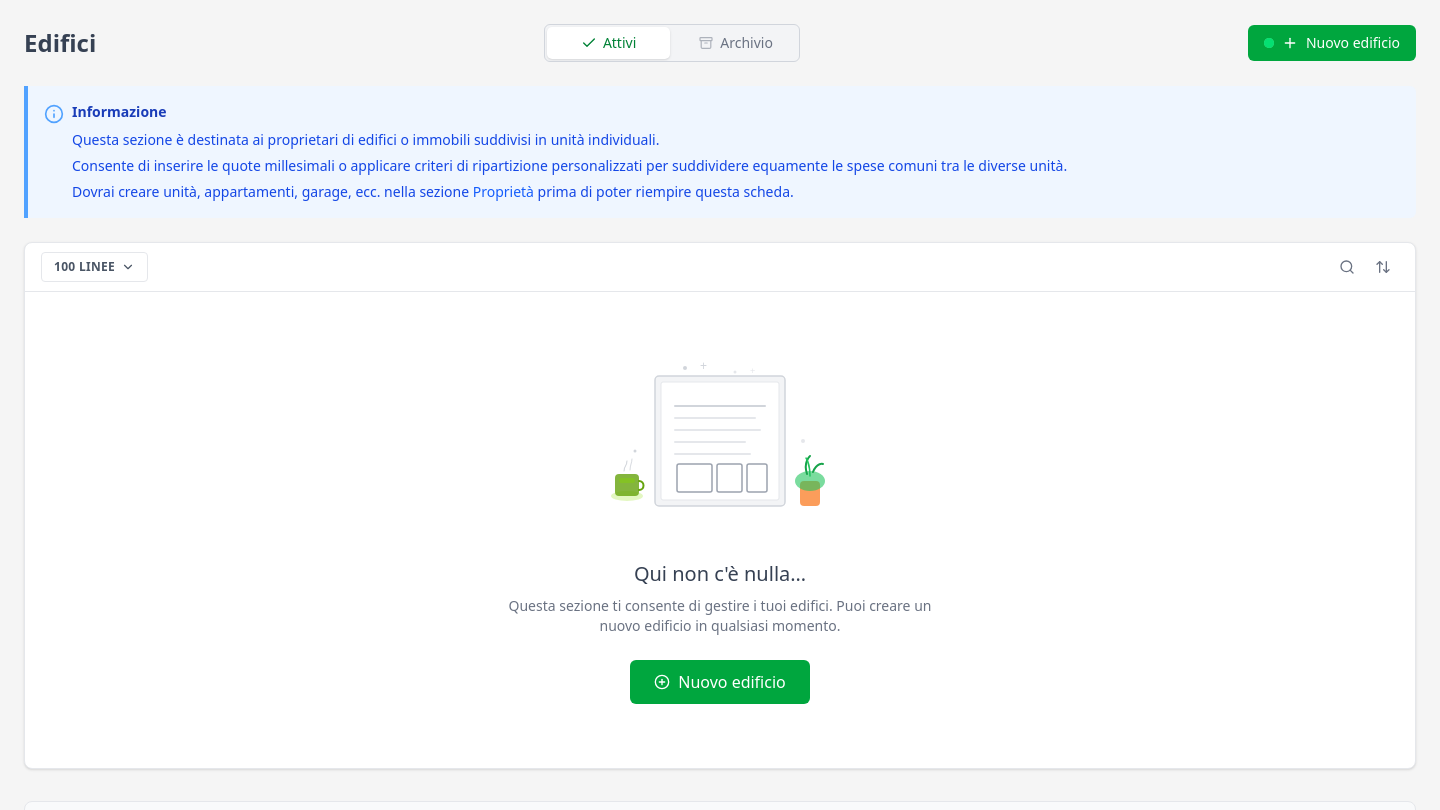
Test: A5.2 building lifecycle actions › A5.2-02 restores an archived row and exposes only archived lifecycle actions
Click the button "Archivio" at (736, 43), box [672,25,799,61]
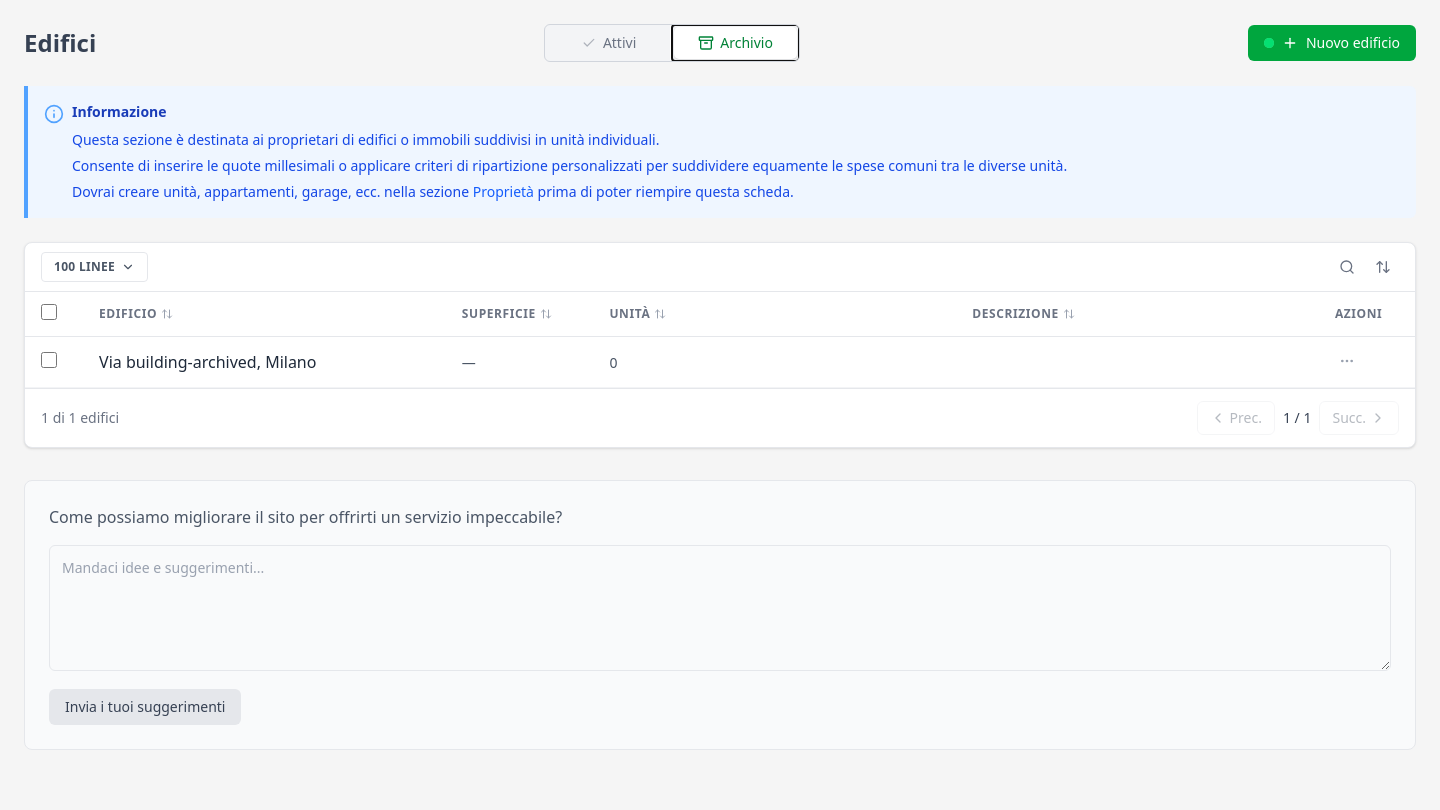
Click the button named "Azioni edificio Via building-archived, Milano" at (1347, 361), box [1335,349,1359,373]
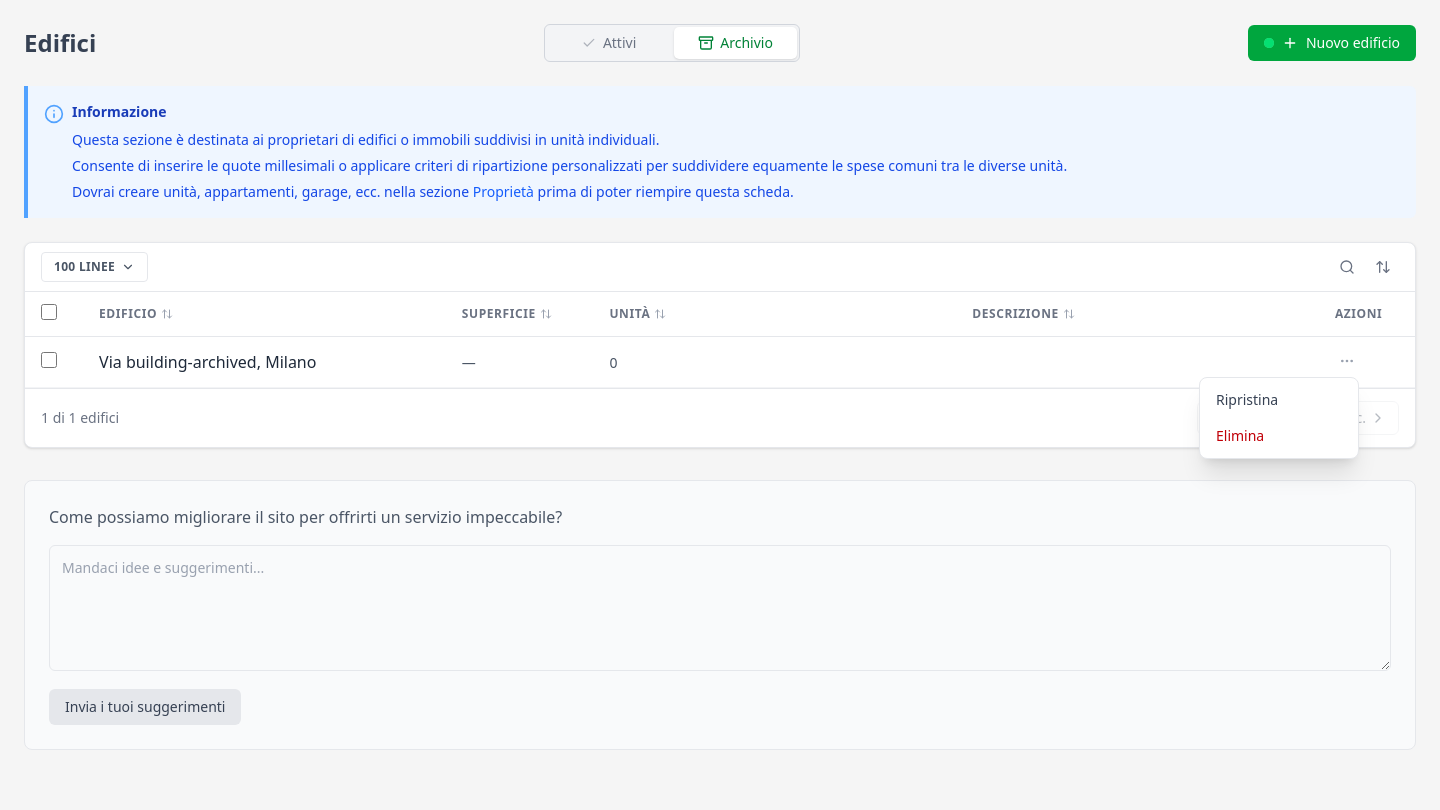
Check: the menu item "Ripristina" is shown
Check: the menu item "Elimina" is shown, box [1200,418,1358,454]
Click the menu item "Ripristina" at (1279, 400), box [1200,382,1358,418]
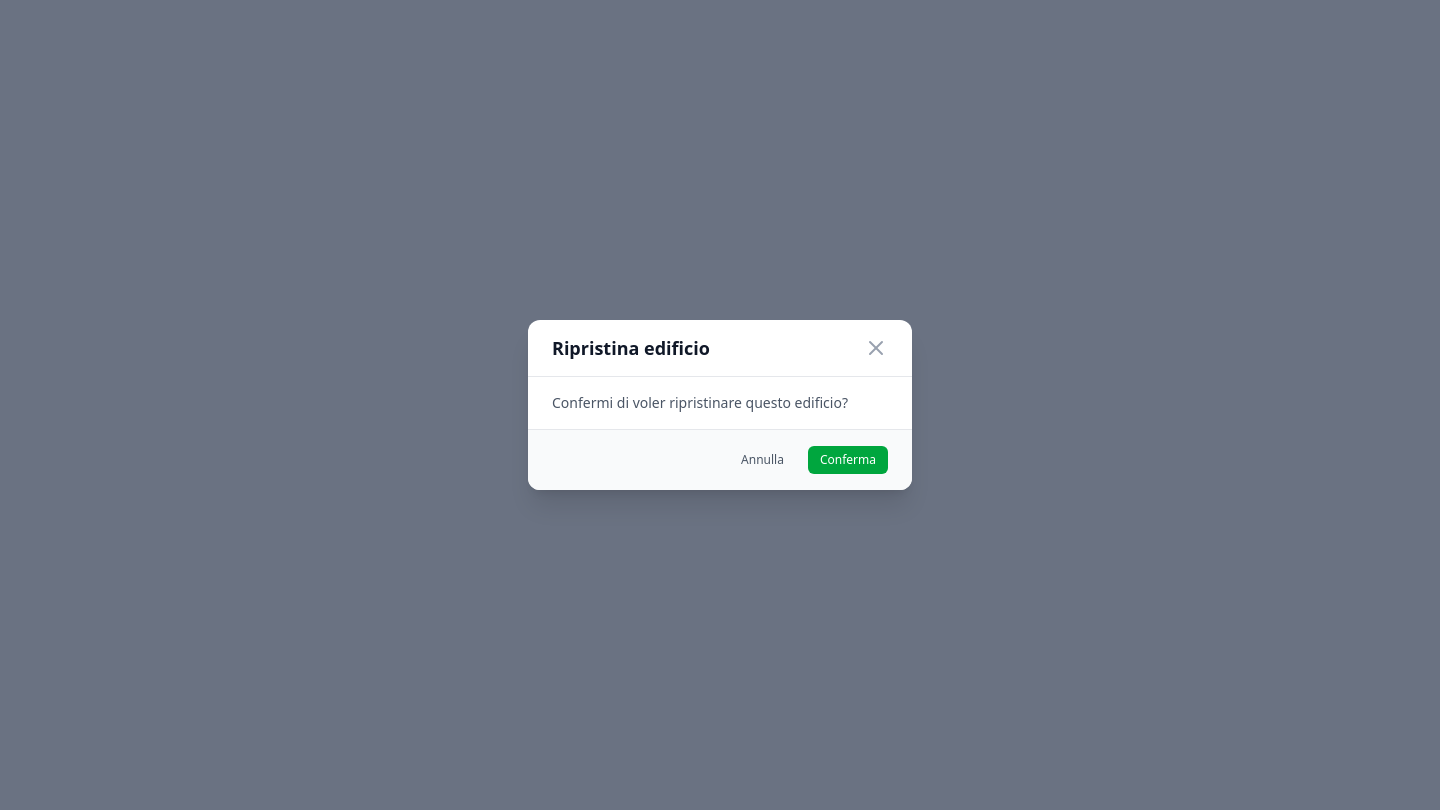
Click the button "Conferma" at (848, 460), box [808,446,888,474]
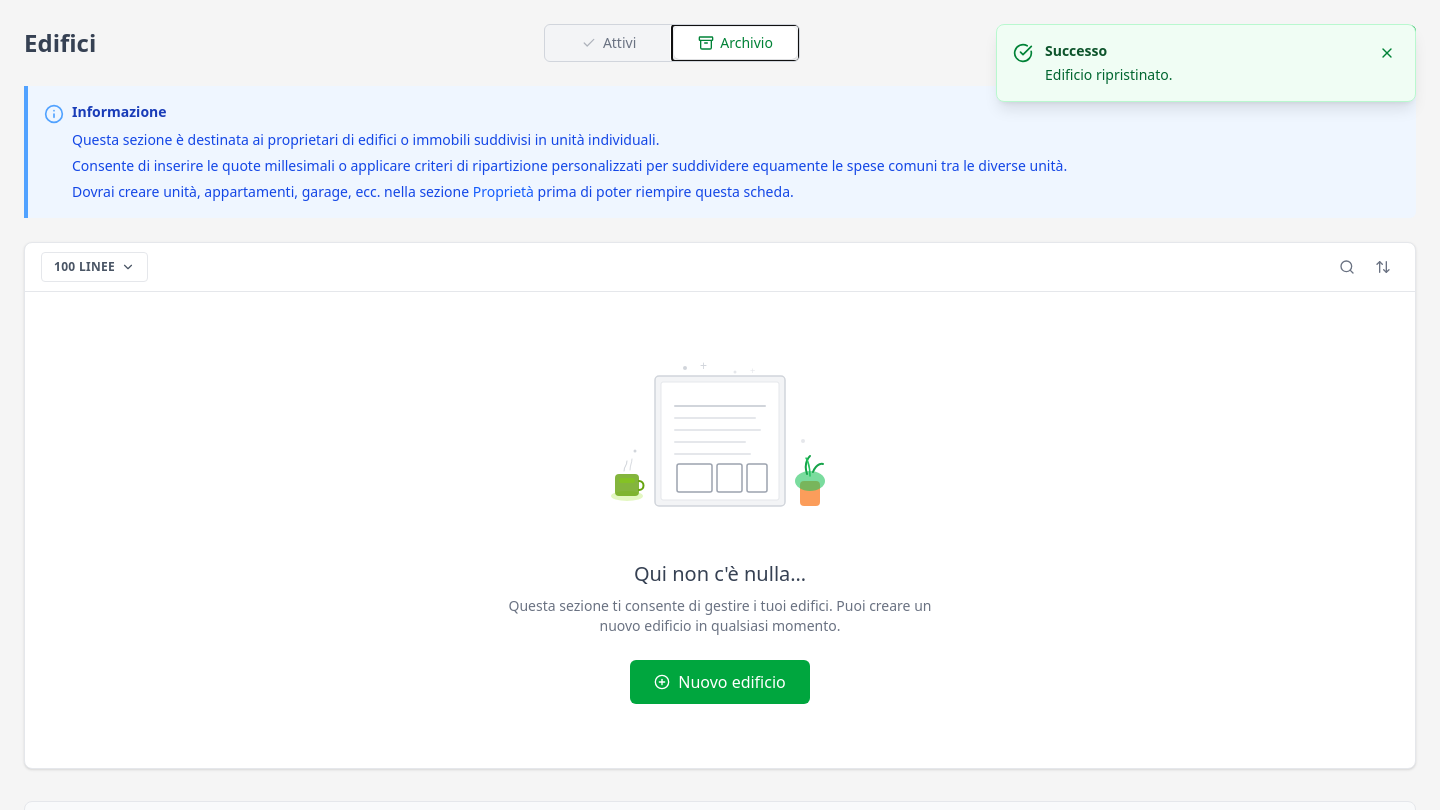
Check: the message shows "Edificio ripristinato.", box [1045,65,1172,84]
